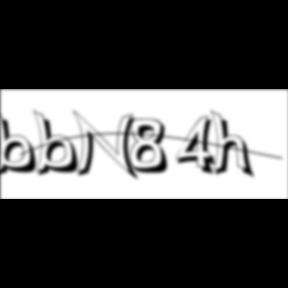4: (176, 115, 222, 179)
8: (130, 117, 174, 176)
N: (72, 109, 142, 183)
b: (32, 109, 86, 179), (0, 109, 44, 179)
h: (210, 108, 258, 182)
